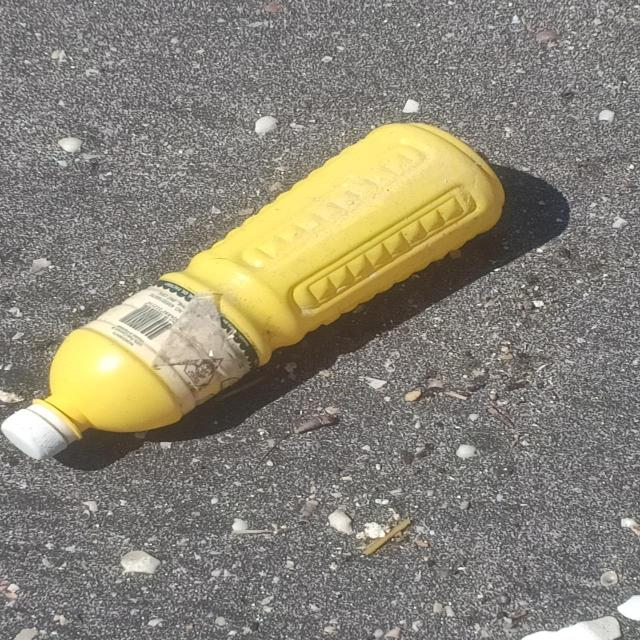plastic_waste: (1, 121, 510, 463)
